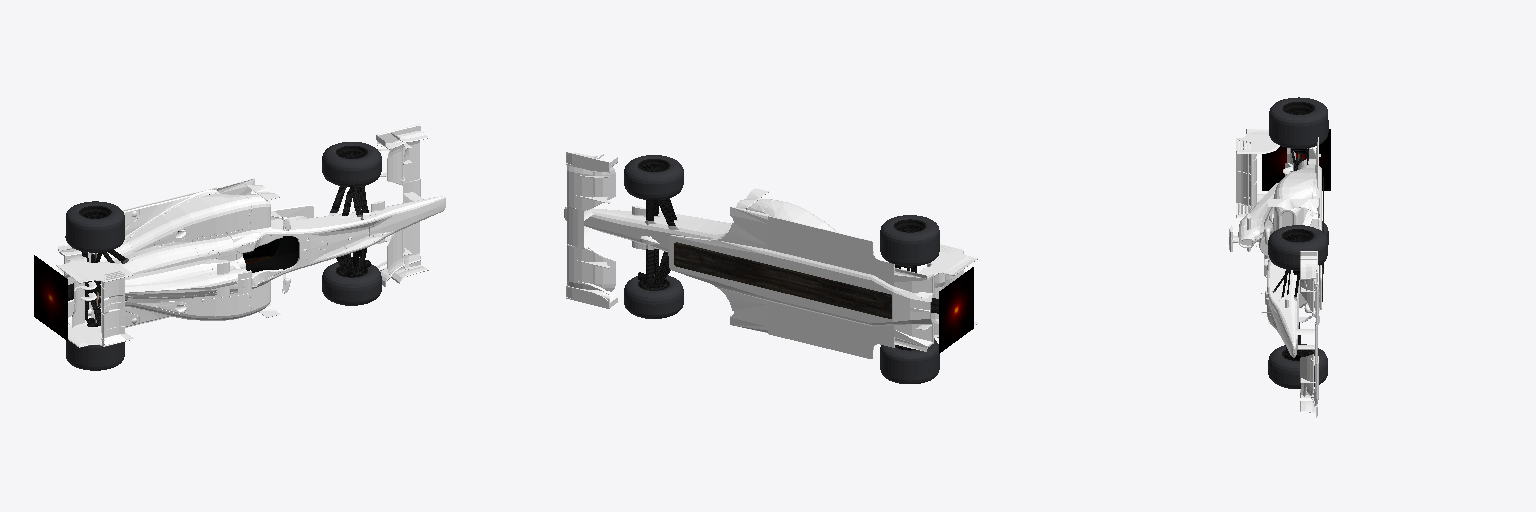
The picture shows the model from 3 angles: view 1: azimuth 30°, elevation 25°; view 2: azimuth 150°, elevation 25°; view 3: azimuth 270°, elevation 25°; orthographic projection.
Visible parts, largest first — view 1: object__60, object__63, object__24, object__25, object__23, object__22, object__58, object__52, object__0, object__70, object__50, object__48 (+10 smaller); view 2: object__60, object__58, object__0, object__16, object__25, object__52, object__50, object__22, object__48, object__46, object__56, object__24 (+7 smaller); view 3: object__60, object__52, object__25, object__22, object__70, object__24, object__48, object__46, object__56, object__59, object__47, object__51 (+1 smaller).
Boxes of the visible parts, box(x1,y1,x2,y2) form: object__60: box(91, 178, 374, 327); object__63: box(124, 239, 231, 302); object__24: box(94, 193, 251, 266); object__25: box(34, 255, 67, 340); object__23: box(98, 293, 251, 320); object__22: box(369, 196, 445, 244); object__58: box(68, 194, 298, 300); object__52: box(65, 210, 124, 252); object__0: box(376, 141, 420, 267); object__70: box(100, 272, 125, 345); object__50: box(66, 340, 124, 370); object__48: box(322, 152, 381, 186); object__60: box(640, 200, 894, 358); object__58: box(674, 242, 938, 318); object__0: box(567, 165, 610, 294); object__16: box(893, 267, 933, 351); object__25: box(939, 267, 973, 353); object__52: box(880, 222, 939, 265); object__50: box(880, 341, 939, 383); object__22: box(564, 206, 645, 249); object__48: box(624, 165, 683, 199); object__46: box(624, 285, 683, 318); object__56: box(919, 244, 977, 276); object__24: box(763, 200, 837, 232); object__60: box(1247, 137, 1321, 322); object__52: box(1269, 106, 1328, 148); object__25: box(1262, 129, 1330, 190); object__22: box(1261, 294, 1298, 357); object__70: box(1236, 143, 1256, 209); object__24: box(1274, 159, 1312, 216); object__48: box(1268, 235, 1327, 269); object__46: box(1268, 354, 1327, 388); object__56: box(1236, 129, 1311, 153); object__59: box(1238, 194, 1306, 307); object__47: box(1270, 225, 1325, 270); object__51: box(1271, 97, 1325, 148).
Bounding box in the file's own units: 4.91 × 1.78 × 1.1.
7 materials, 6 textured.